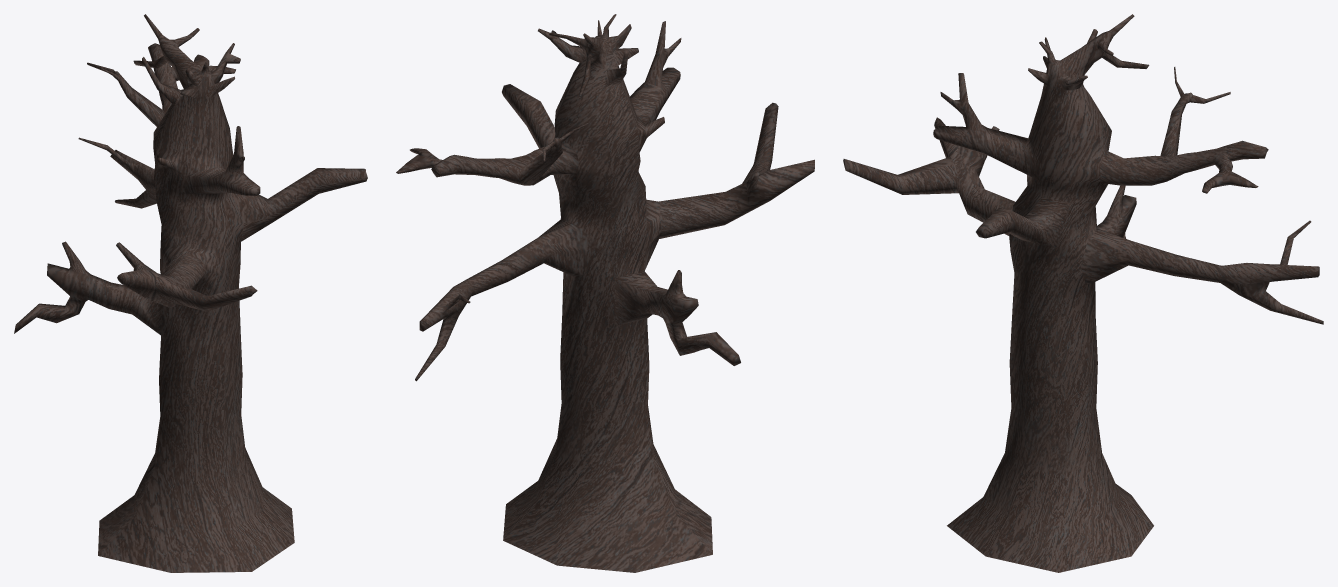
File: Arbol_seco_1.fbx
3 renders of one model, left to right at view 1: azimuth 30°, elevation 25°; view 2: azimuth 150°, elevation 25°; view 3: azimuth 270°, elevation 25°, orthographic. The views are drawn at different scales.
Visible parts, largest first — view 1: Arbol_1; view 2: Arbol_1; view 3: Arbol_1.
Part boxes in pixels (box(x1,y1,x2,y2)): Arbol_1: box(14, 14, 367, 572); Arbol_1: box(396, 14, 814, 572); Arbol_1: box(843, 14, 1323, 572).
Size of the model in its own units: 1426 by 2344 by 2026.
